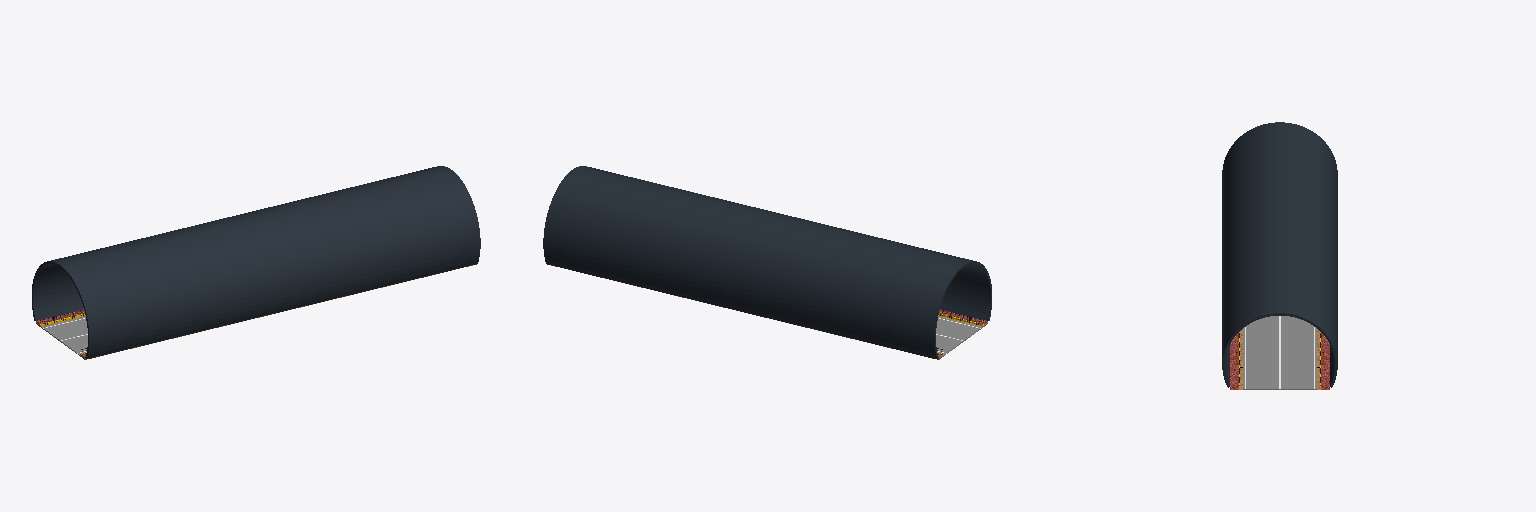
3 renders of one model, left to right at view 1: azimuth 30°, elevation 25°; view 2: azimuth 150°, elevation 25°; view 3: azimuth 270°, elevation 25°, orthographic.
Parts seen in each view (by area): view 1: suidao; view 2: suidao; view 3: suidao.
Part boxes in pixels (left/top/right/bottom): suidao: left=32, top=166, right=480, bottom=359; suidao: left=543, top=166, right=991, bottom=359; suidao: left=1222, top=122, right=1337, bottom=389.
Bounding box in the file's own units: 50036 × 9351 × 12788.
8 materials, 3 textured.